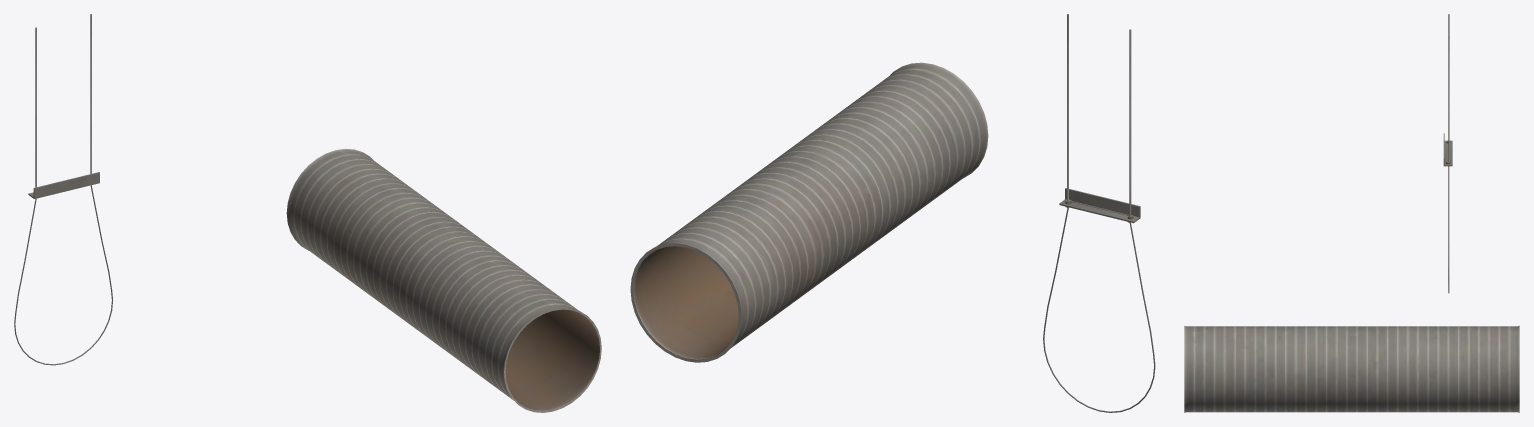
The model's file is modular_airduct_circular_01_1k.gltf.
3 renders of one model, left to right at view 1: azimuth 30°, elevation 25°; view 2: azimuth 150°, elevation 25°; view 3: azimuth 270°, elevation 25°, orthographic. The views are drawn at different scales.
Parts seen in each view (by area): view 1: modular_airduct_circular_triple, modular_airduct_circular_brace, modular_airduct_circular_brace_extention_wires; view 2: modular_airduct_circular_triple, modular_airduct_circular_brace, modular_airduct_circular_brace_extention_wires; view 3: modular_airduct_circular_triple, modular_airduct_circular_brace.
Part boxes in pixels (x1=…): modular_airduct_circular_triple: x1=286, y1=148, x2=601, y2=412; modular_airduct_circular_brace: x1=14, y1=172, x2=112, y2=365; modular_airduct_circular_brace_extention_wires: x1=35, y1=14, x2=91, y2=187; modular_airduct_circular_triple: x1=630, y1=62, x2=988, y2=362; modular_airduct_circular_brace: x1=1043, y1=188, x2=1155, y2=412; modular_airduct_circular_brace_extention_wires: x1=1067, y1=14, x2=1131, y2=216; modular_airduct_circular_triple: x1=1184, y1=325, x2=1519, y2=412; modular_airduct_circular_brace: x1=1443, y1=133, x2=1452, y2=293.
Bounding box in the file's own units: 1.57 × 1.24 × 1.42.
2 materials, 2 textured.
